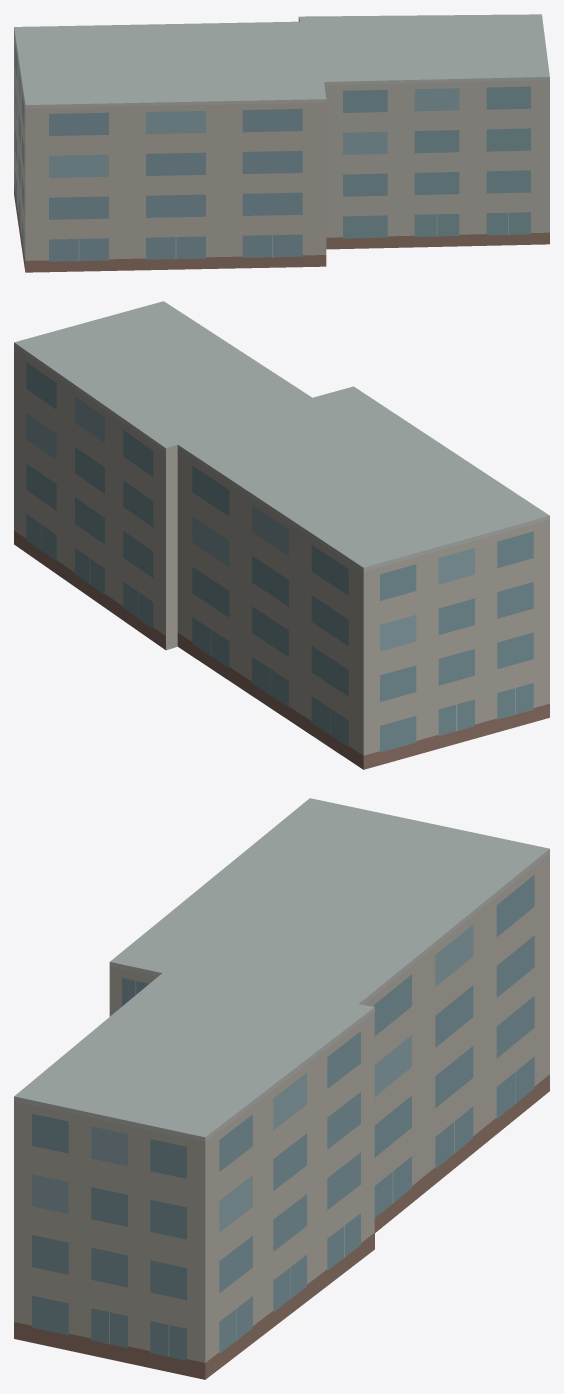
The model's file is survey-upis-32586266.glb.
3 renders of one model, top to bottom at view 1: azimuth 30°, elevation 25°; view 2: azimuth 150°, elevation 25°; view 3: azimuth 270°, elevation 25°, orthographic. The views are drawn at different scales.
Parts seen in each view (by area): view 1: survey-upis-32586266.tmp; view 2: survey-upis-32586266.tmp; view 3: survey-upis-32586266.tmp.
Boxes of the visible parts, x1,y1,x2,y2 form: survey-upis-32586266.tmp: (14,14,549,272); survey-upis-32586266.tmp: (14,301,549,769); survey-upis-32586266.tmp: (14,798,549,1379).
Bounding box in the file's own units: 36.62 × 12.2 × 24.44.
